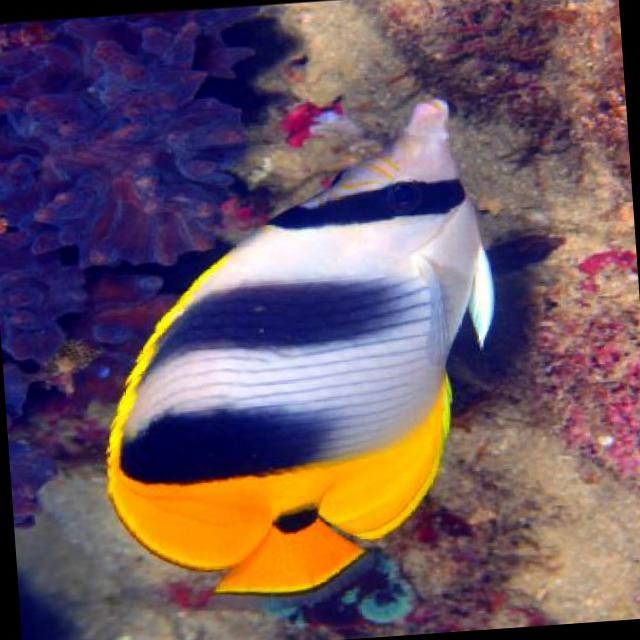ButterflyFish: (80, 93, 514, 604)
